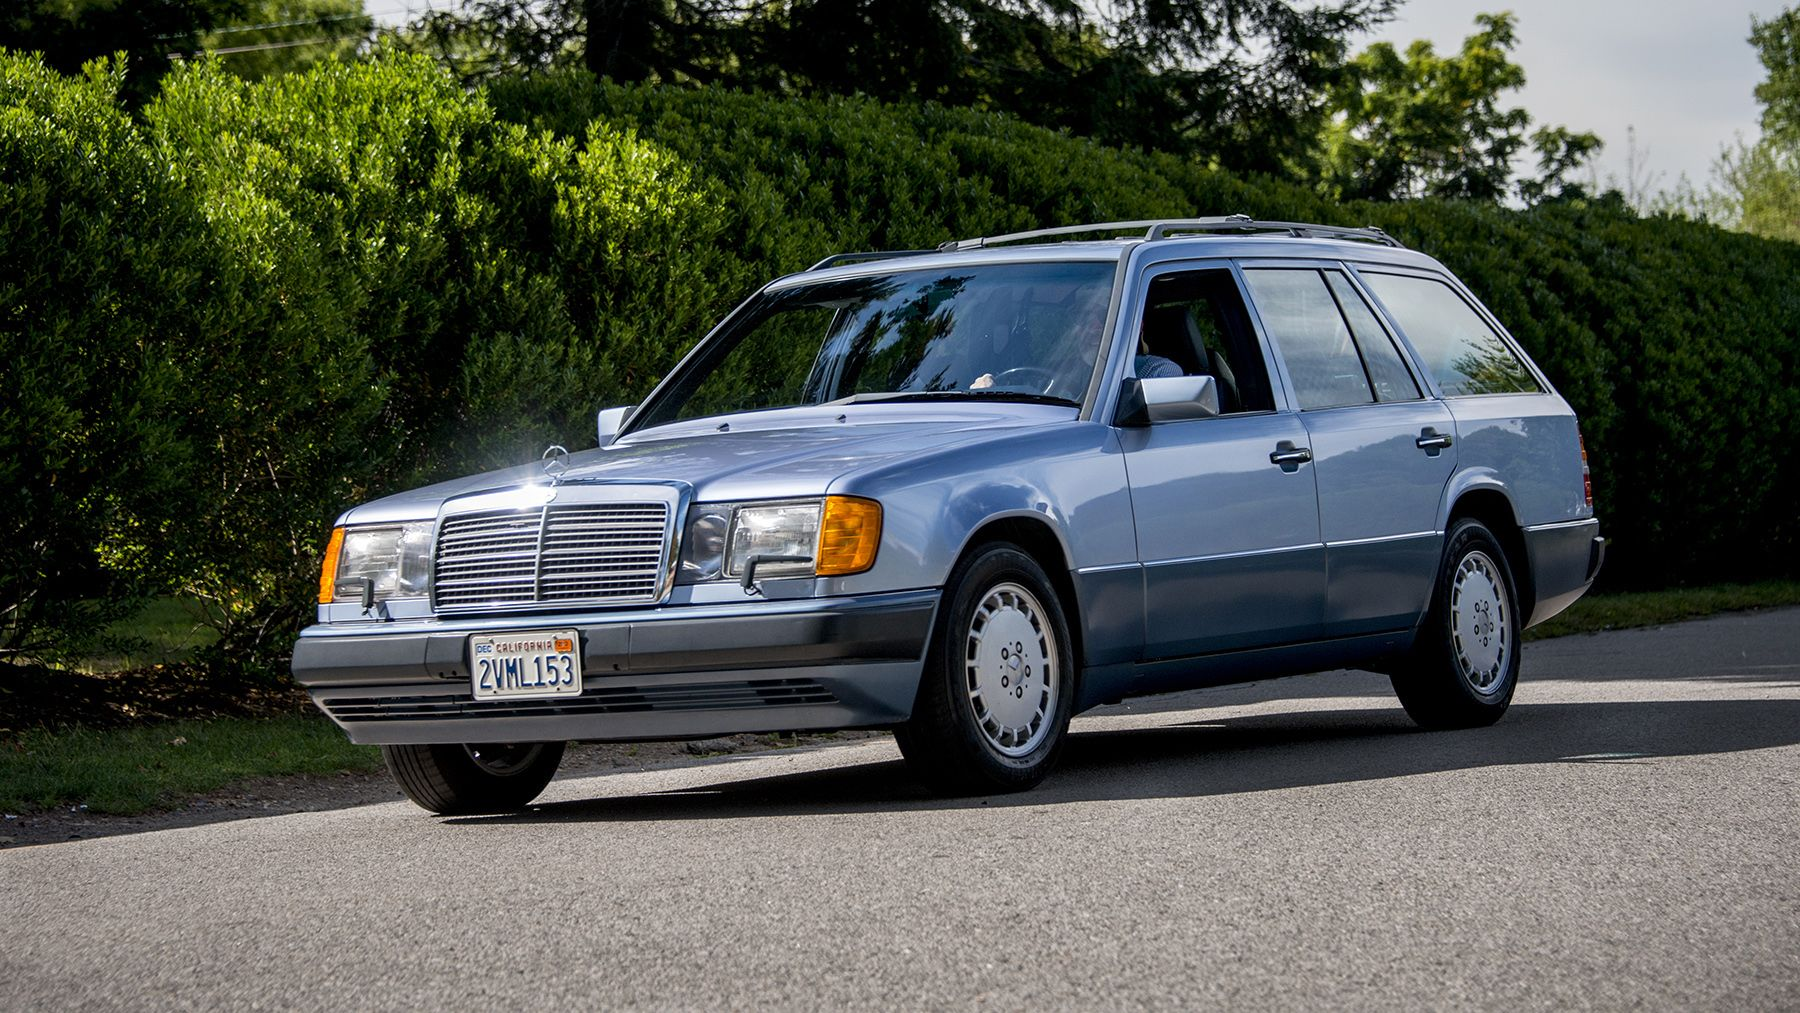car: (288, 215, 1605, 815)
